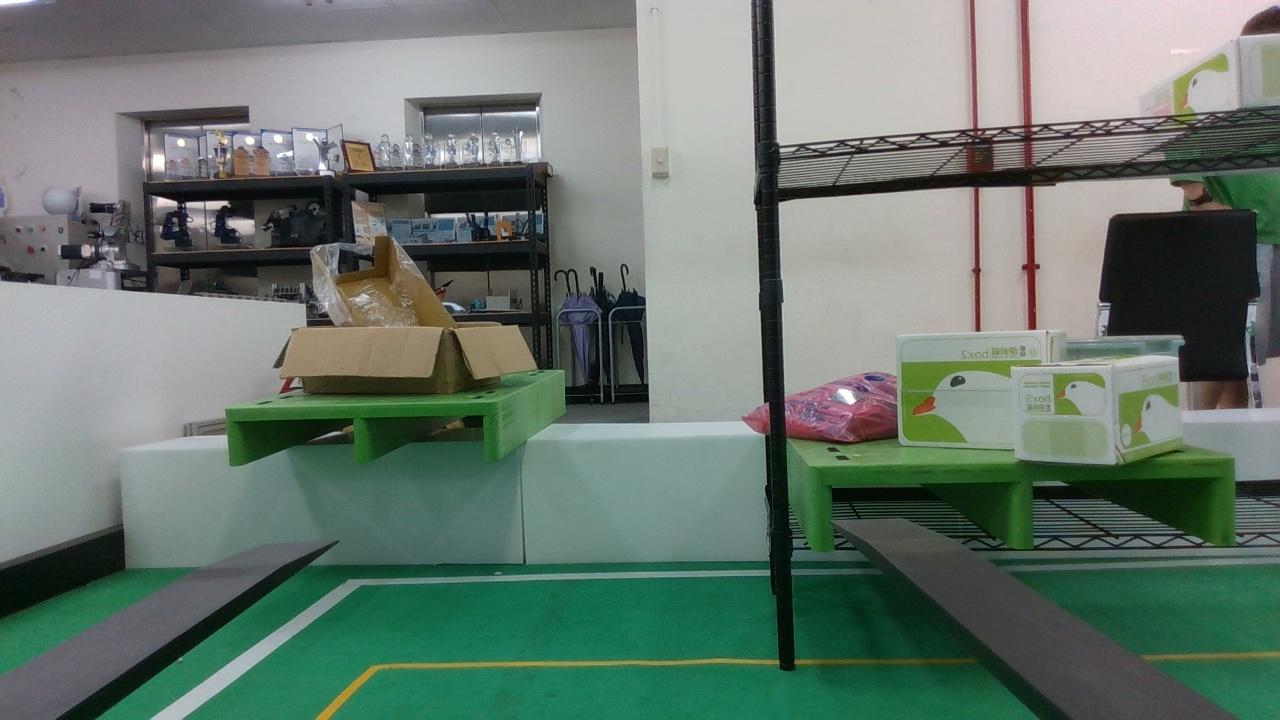Pallet: (804, 454, 1238, 551), (226, 399, 500, 467)
